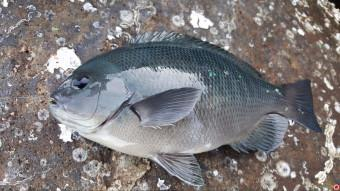fish: (50, 30, 322, 190)
